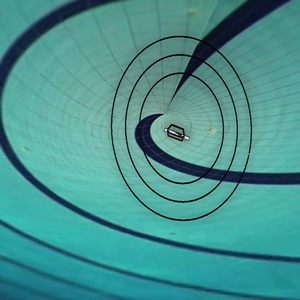circle: (103, 29, 258, 232)
submarine: (157, 116, 191, 149)
